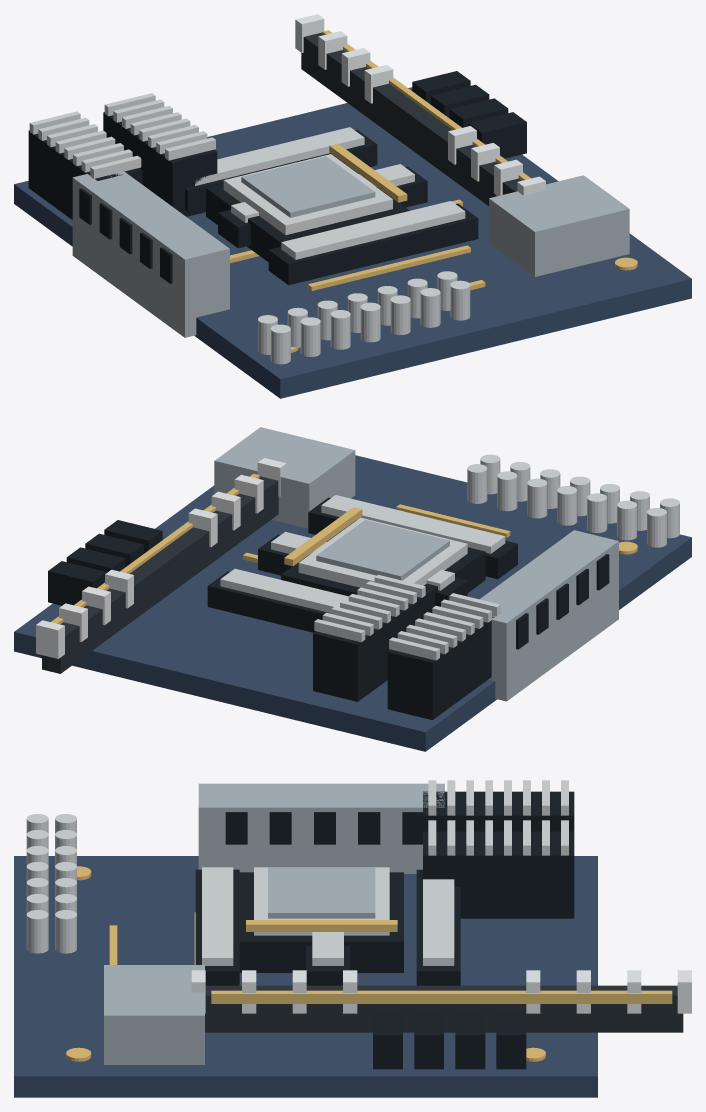
The model's file is z790-atx.glb.
The picture shows the model from 3 angles, top to bottom: view 1: azimuth 30°, elevation 25°; view 2: azimuth 150°, elevation 25°; view 3: azimuth 270°, elevation 25°; orthographic projection. The views are drawn at different scales.
Parts seen in each view (by area): view 1: z790-atx; view 2: z790-atx; view 3: z790-atx.
Part boxes in pixels (x1=…): z790-atx: x1=14, y1=14, x2=691, y2=398; z790-atx: x1=14, y1=427, x2=691, y2=751; z790-atx: x1=14, y1=780, x2=691, y2=1097.
Size of the model in its own units: 1.7 by 0.3625 by 2.15.
